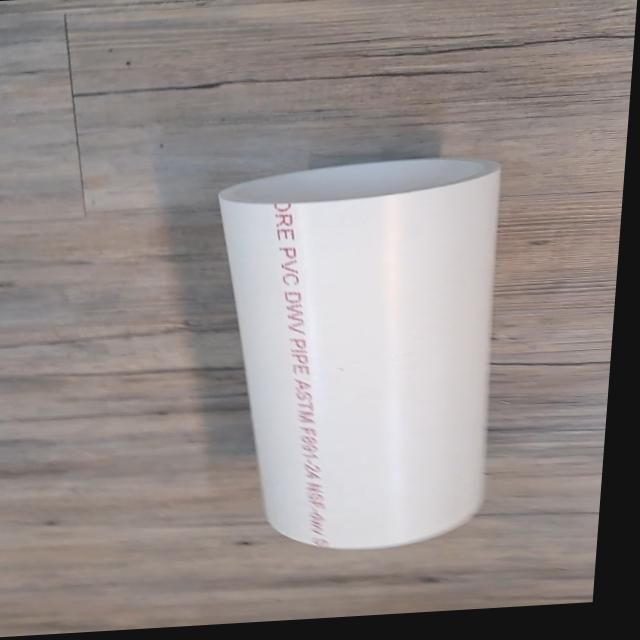CORAL: (184, 145, 517, 559)
